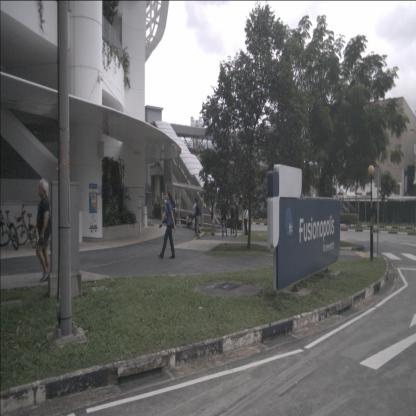human-pedestrian-adult: (36, 178, 52, 283), (158, 190, 177, 259), (196, 198, 204, 238), (220, 203, 228, 238), (243, 206, 249, 236), (193, 198, 198, 233), (233, 202, 238, 237), (230, 203, 235, 235), (186, 212, 194, 231), (211, 202, 215, 235), (192, 216, 198, 231)
vehicle-bicycle: (14, 204, 37, 250), (0, 208, 19, 252)
